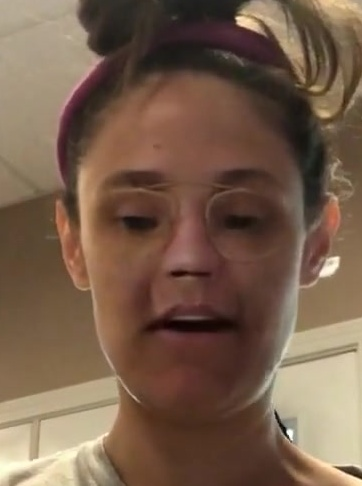n_f: (155, 189, 231, 285)
